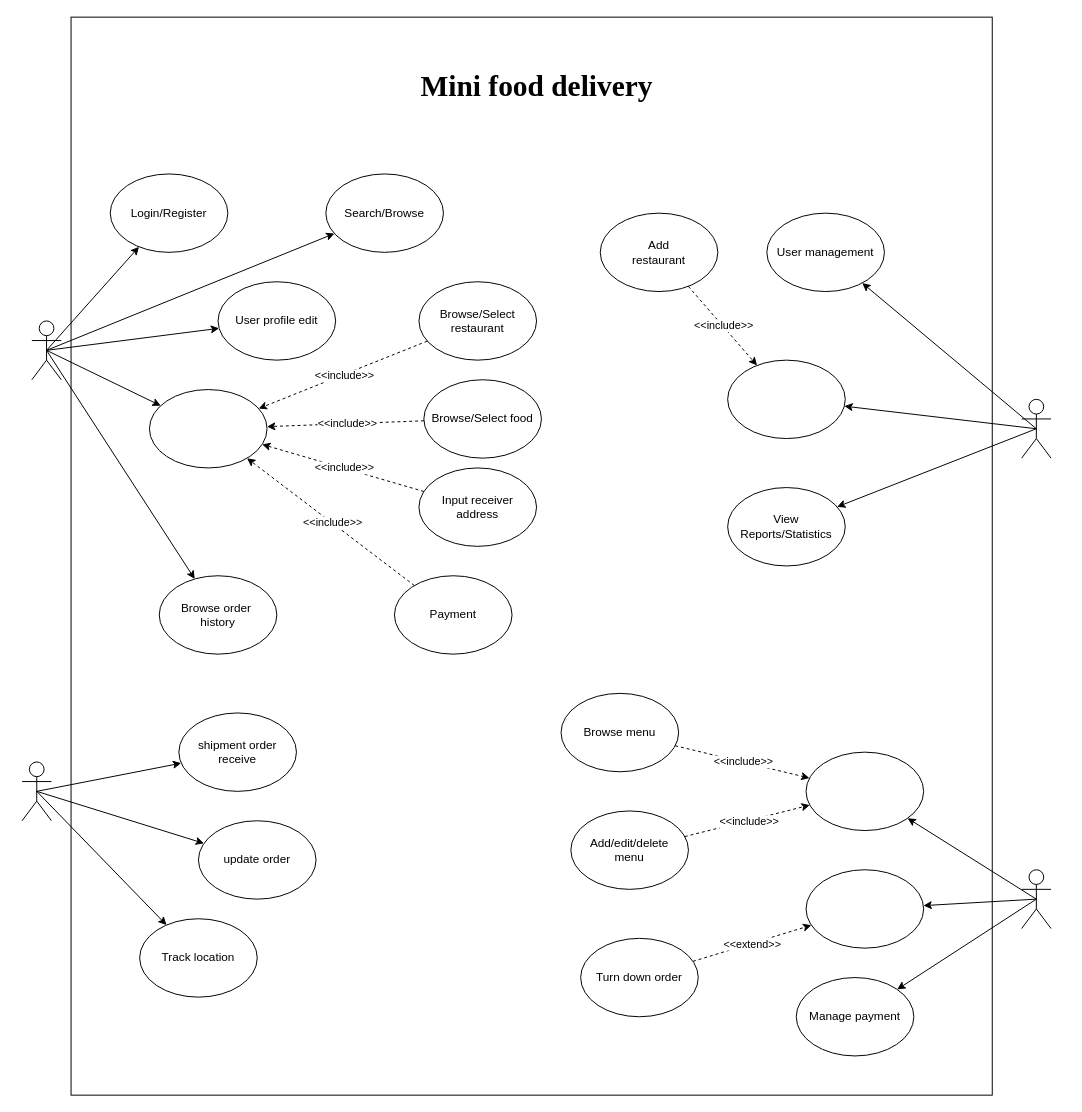
Image size: 1082x1112. Some labels were removed from this diagram. Here are the shapes that lost their labels. From the top down, the box of each, then its label:
(31, 320, 61, 380): Customer
(727, 359, 845, 439): Restaurant management
(148, 389, 267, 468): Order food
(1021, 398, 1051, 458): Admin
(21, 761, 51, 821): Shipper
(805, 751, 924, 831): Manage menu
(805, 869, 924, 948): Order processing
(1021, 869, 1051, 929): Restaurant
